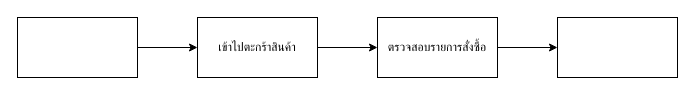
This 695x95 diagram has some shape labels left out. Each missing label, with the centre of its shape:
กดสั่งซื้อ: (x=617, y=47)
ยืนยันการสั่งซื้อ: (x=77, y=47)
